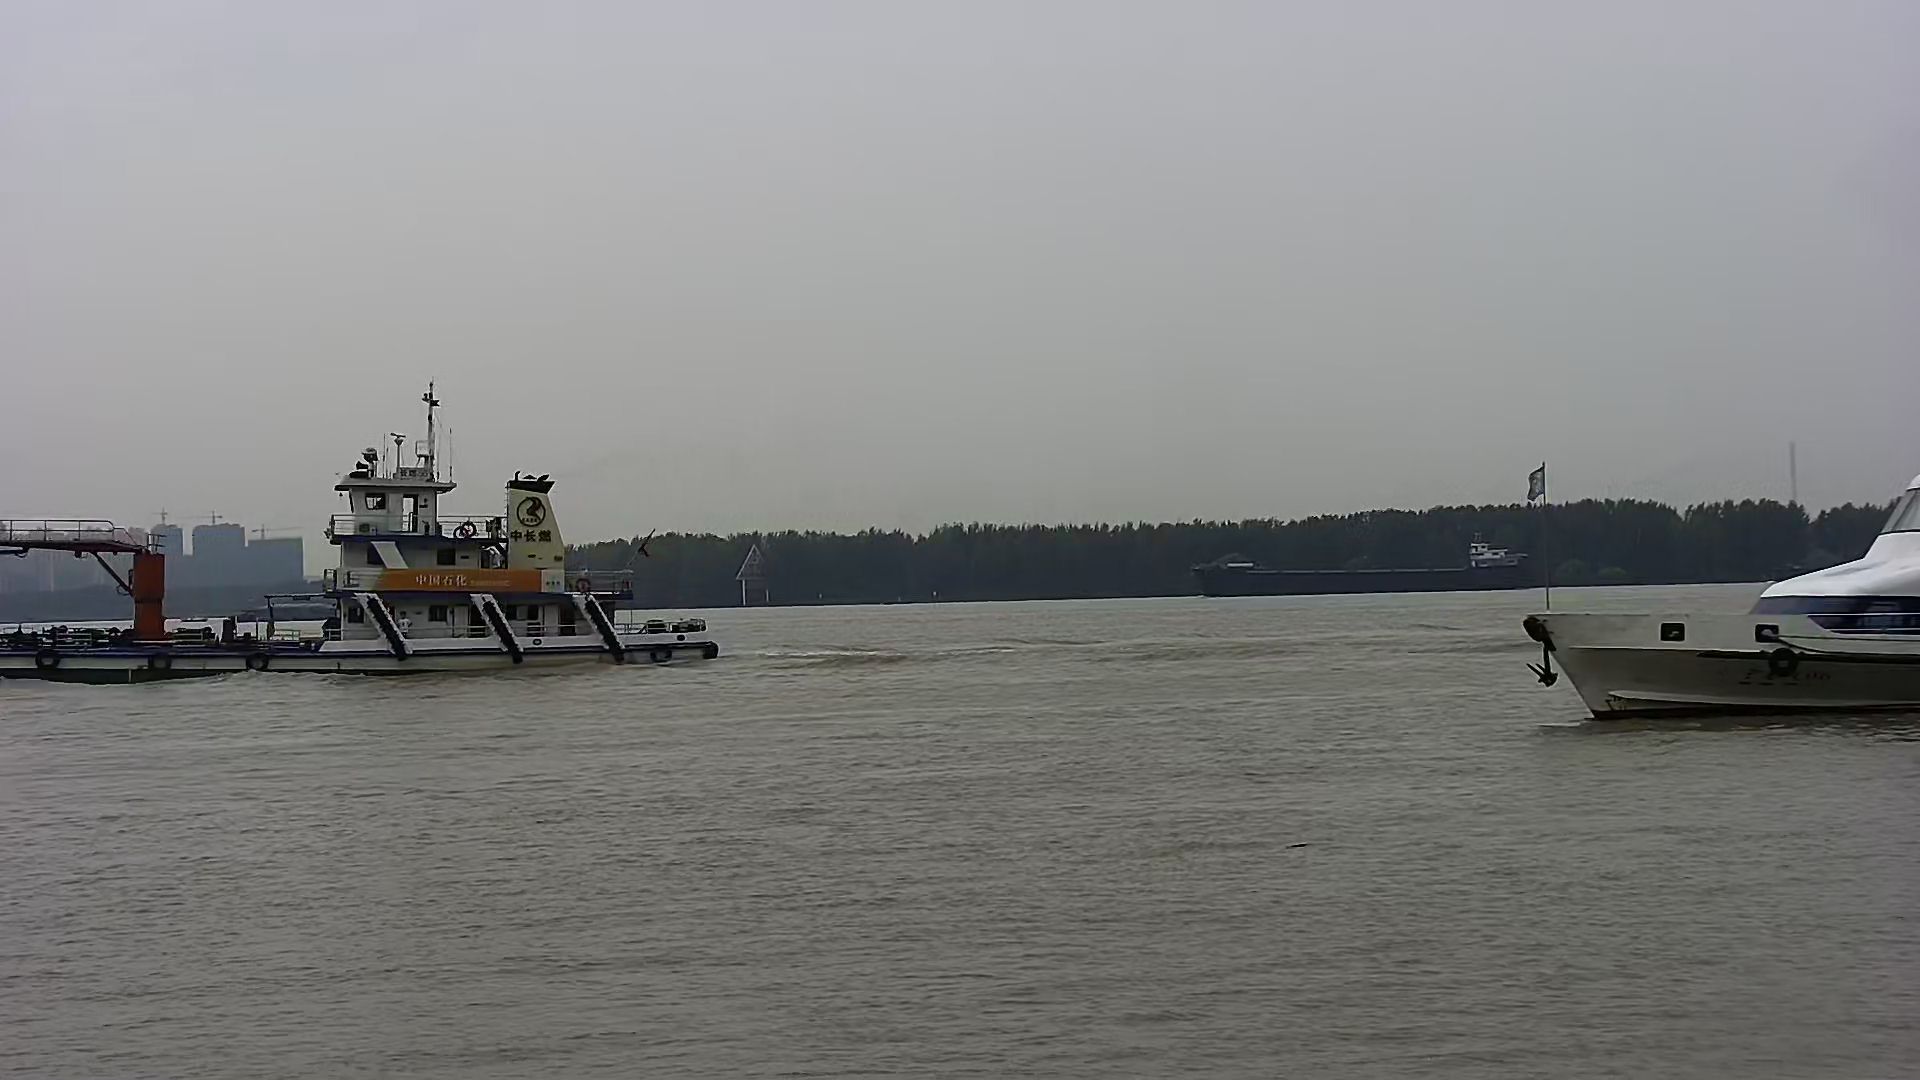ship: (1, 429, 731, 682), (1526, 463, 1920, 721), (1193, 533, 1540, 599)
